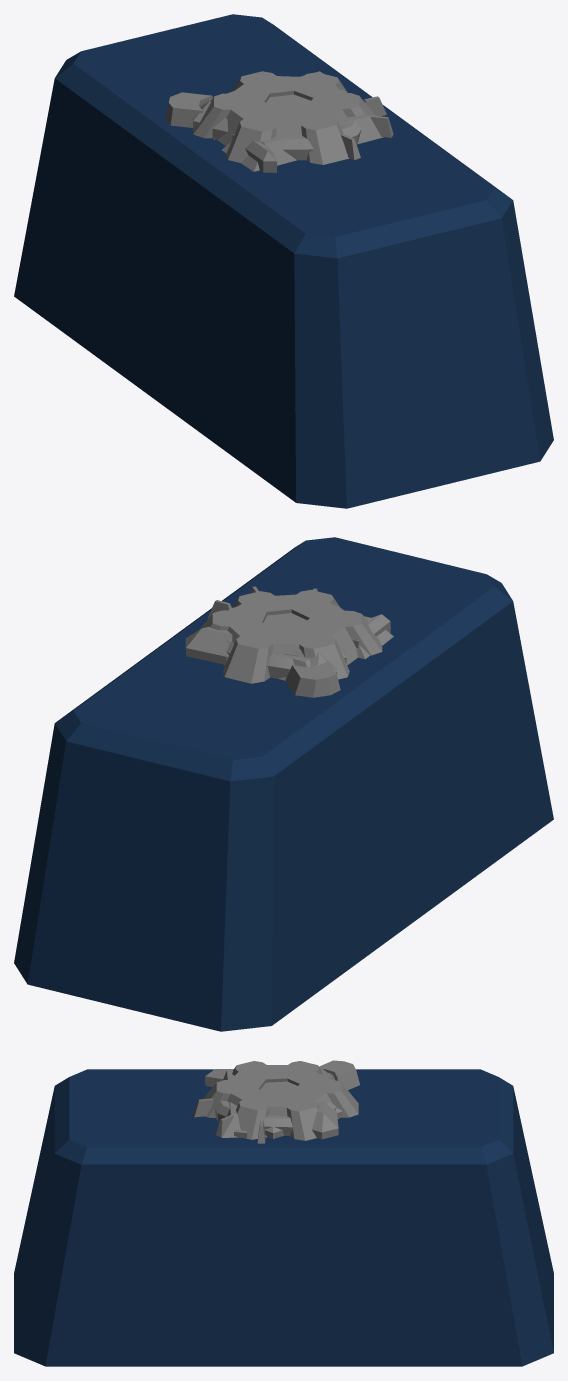
Rendered from Buttons.fbx.
3 renders of one model, top to bottom at view 1: azimuth 30°, elevation 25°; view 2: azimuth 150°, elevation 25°; view 3: azimuth 270°, elevation 25°, orthographic. The views are drawn at different scales.
Parts seen in each view (by area): view 1: Button_wide, SettingsSign, HintSign, ResetSign, PauseSign, PlaySign; view 2: Button_wide, SettingsSign, PlaySign, HintSign, ResetSign; view 3: Button_wide, SettingsSign, HintSign, Button_small, PlaySign, ResetSign, PauseSign.
Part boxes in pixels (<box>): Button_wide: <box>14,14,553,508</box>; SettingsSign: <box>193,71,375,164</box>; HintSign: <box>165,92,393,160</box>; ResetSign: <box>227,89,361,172</box>; PauseSign: <box>200,98,383,171</box>; PlaySign: <box>193,71,323,129</box>; Button_wide: <box>14,537,553,1031</box>; SettingsSign: <box>199,590,382,683</box>; PlaySign: <box>185,613,336,673</box>; HintSign: <box>207,586,340,697</box>; ResetSign: <box>226,606,390,678</box>; Button_wide: <box>14,1069,553,1366</box>; SettingsSign: <box>203,1061,358,1140</box>; HintSign: <box>192,1060,359,1143</box>; Button_small: <box>200,1147,358,1164</box>; PlaySign: <box>261,1068,338,1139</box>; ResetSign: <box>205,1069,336,1135</box>; PauseSign: <box>221,1070,334,1137</box>.
Bounding box in the file's own units: 118 × 118 × 253.
